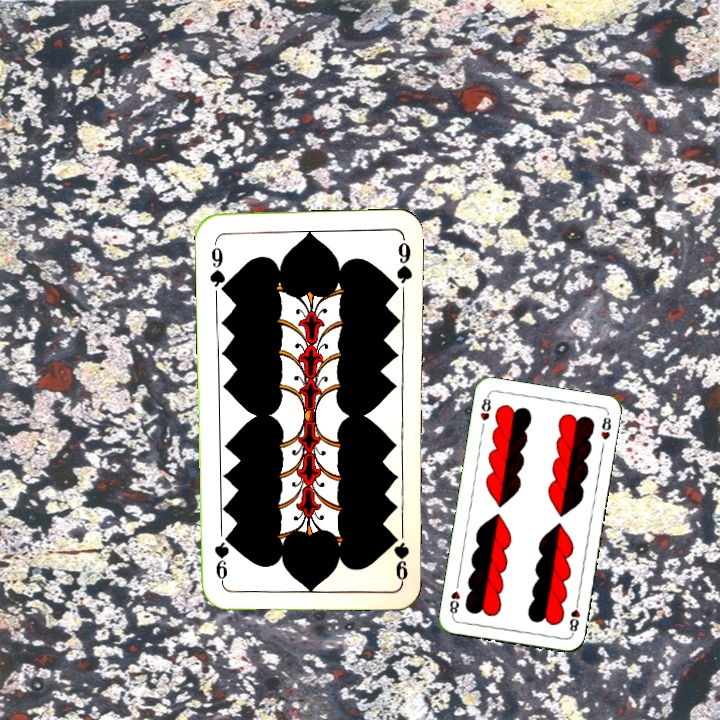G9: (206, 237, 229, 296), (393, 524, 412, 583)
H8: (565, 596, 582, 637), (476, 391, 494, 423)
